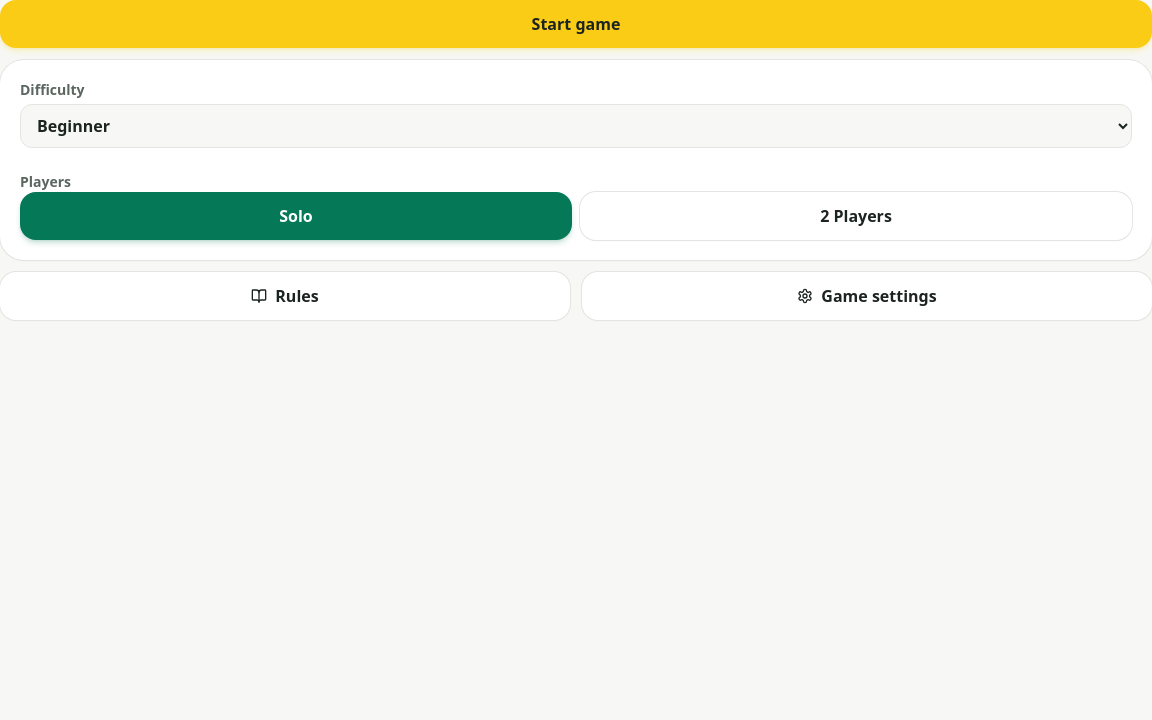
Test: game screens › Hangman includes a reveal used on the winning guess in its point breakdown
This screenshot has width=1152, height=720.
Click the button "Start game".
click(576, 24)  # box [0,0,1151,48]
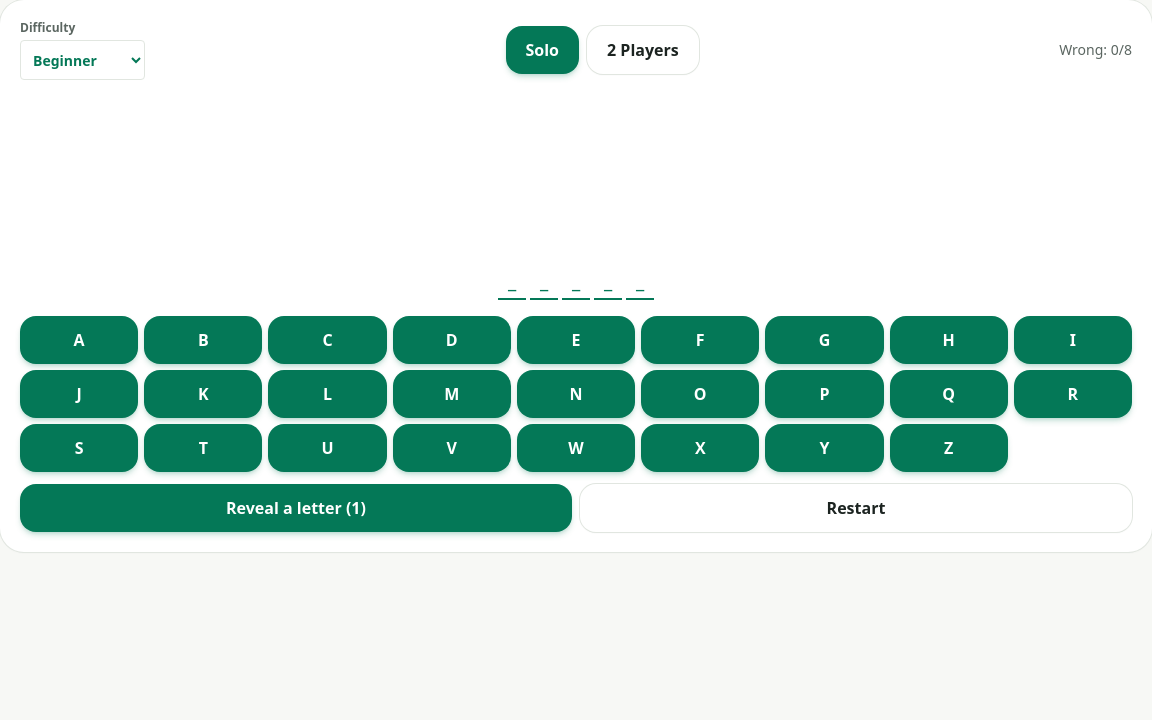
Click the button "Reveal a letter (1)".
click(296, 508)  # box [20,484,572,532]
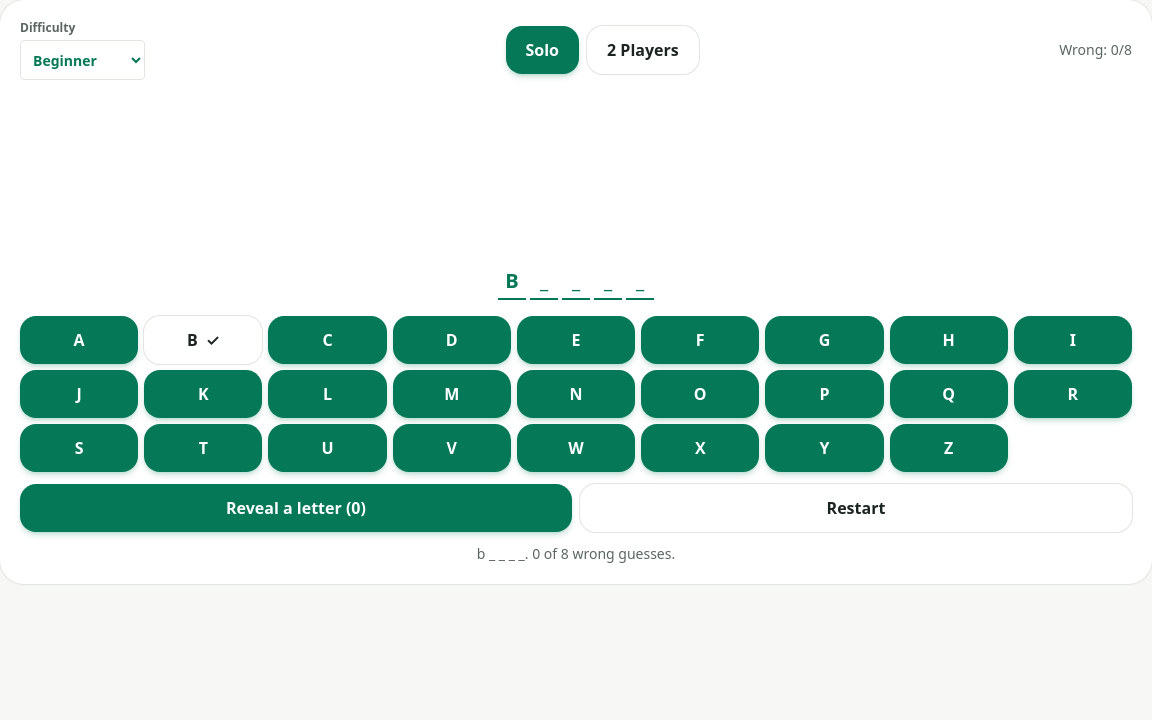
Click the button "R".
click(1073, 394)  # box [1014,370,1132,418]
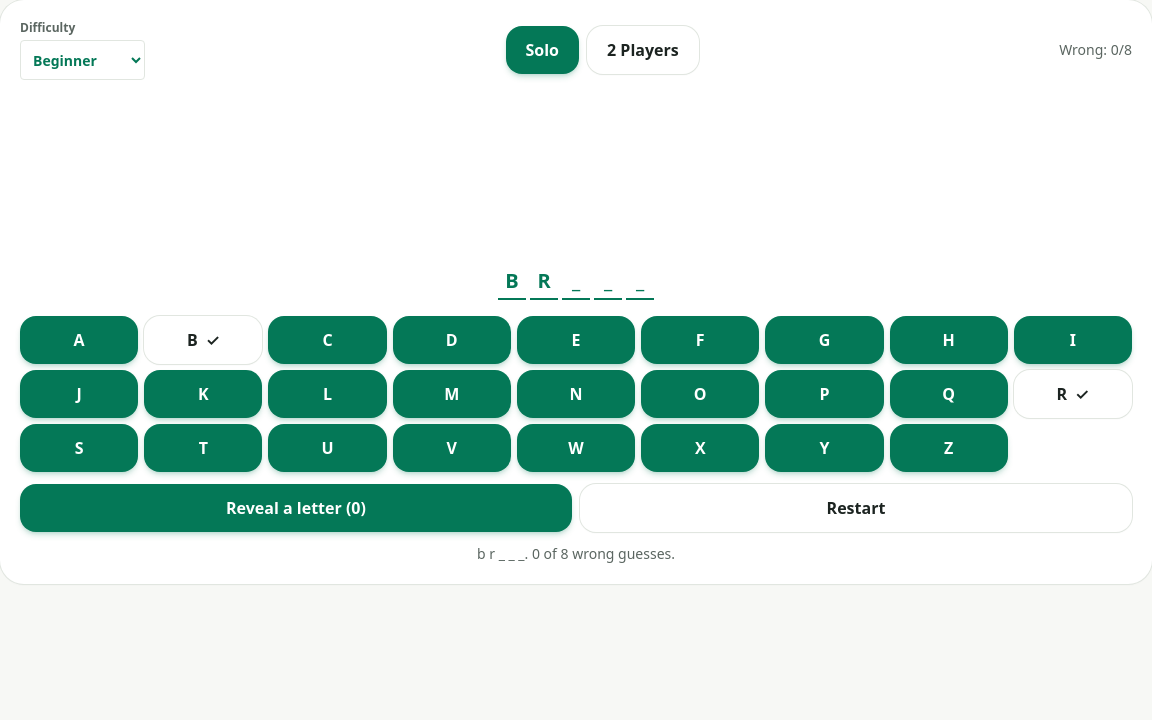
Click the button "E".
click(576, 340)  # box [517,316,635,364]
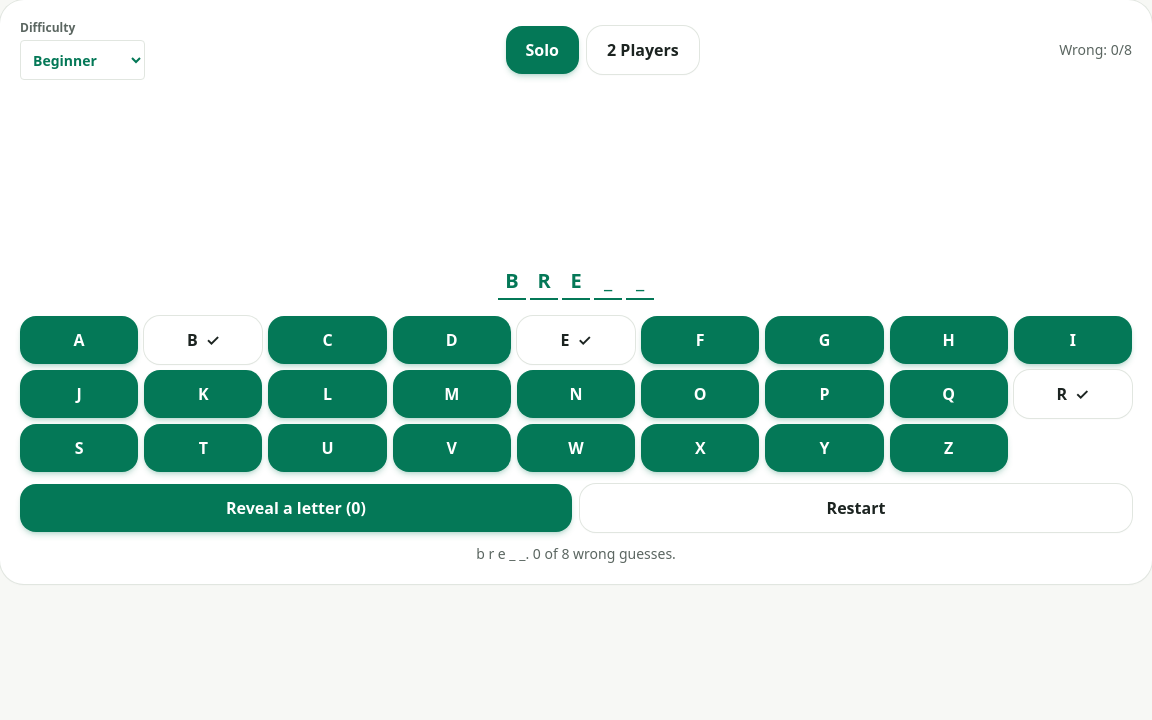
Click the button "A".
click(79, 340)  # box [20,316,138,364]
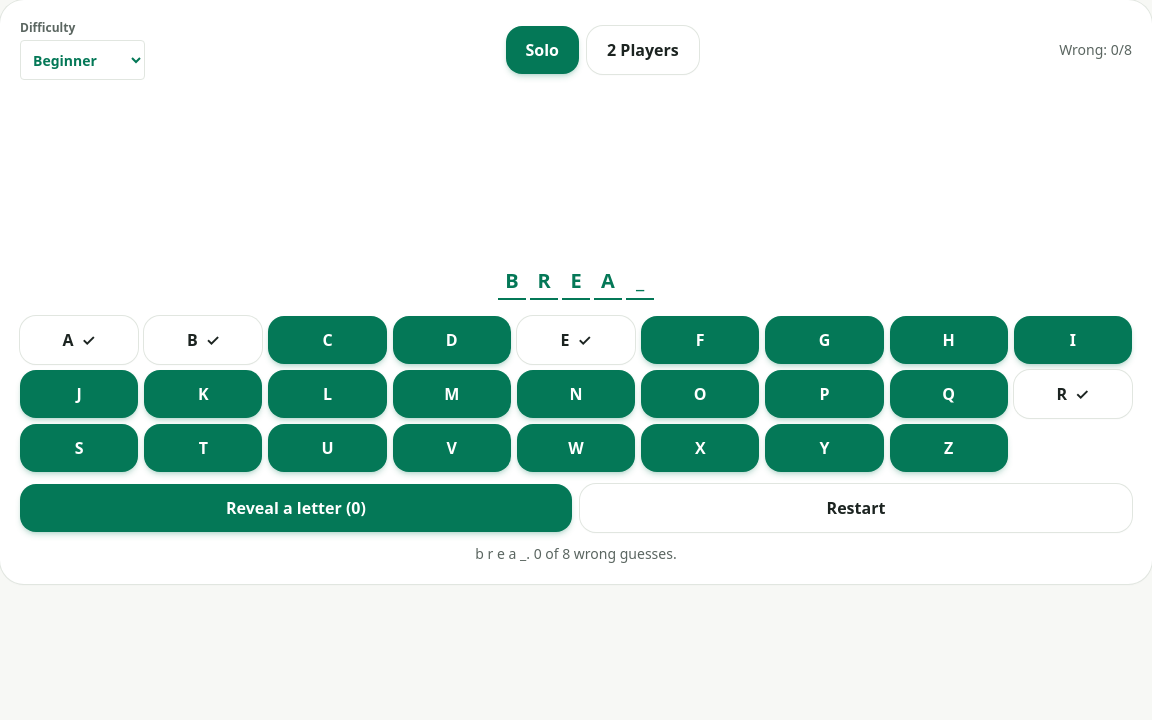
Click the button "D".
click(452, 340)  # box [393,316,511,364]
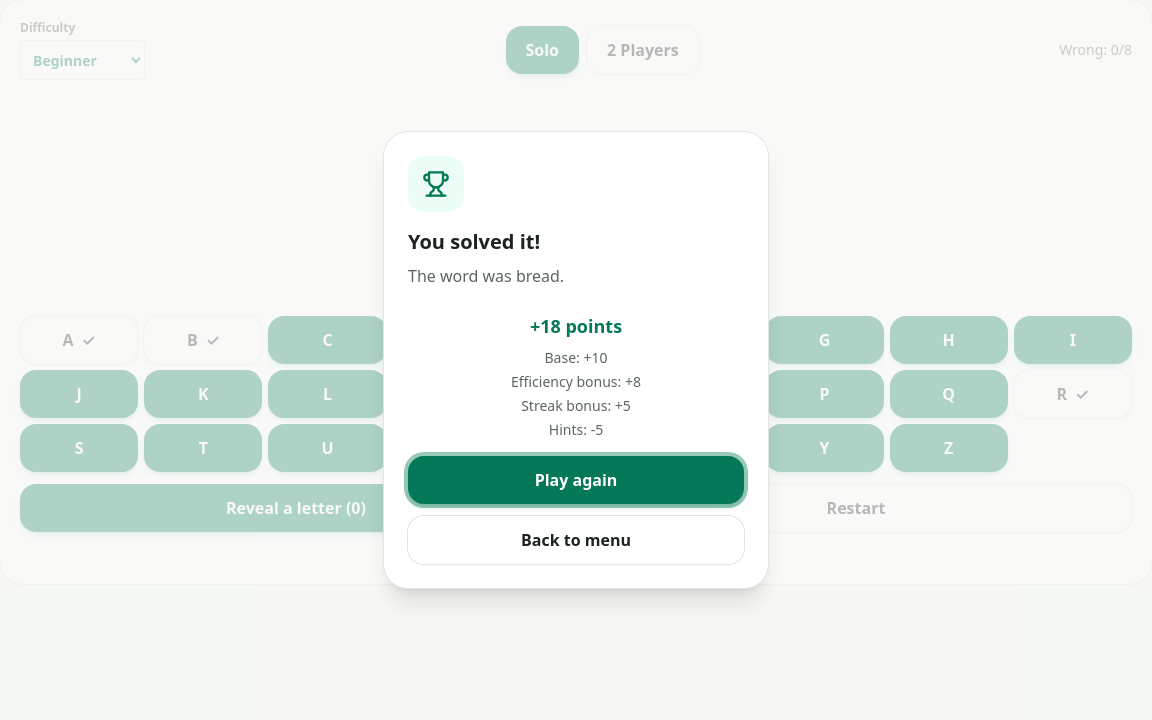
Check: the list item "Hints: -5" is shown, box [549,420,603,439]
